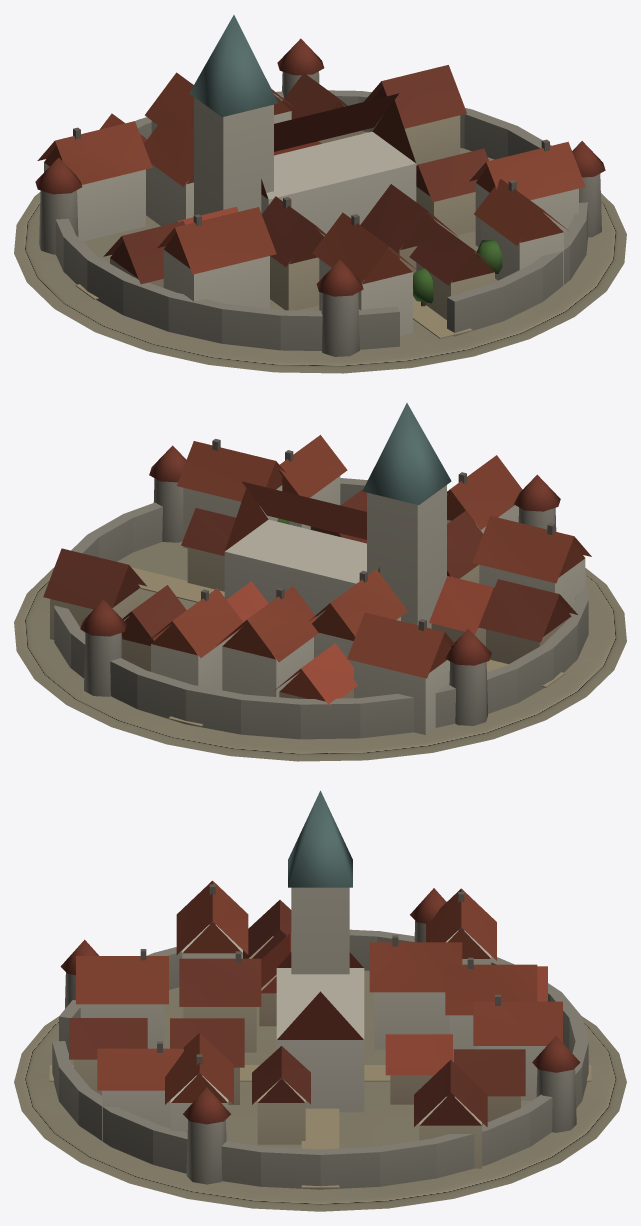
The model's file is settlement_1_4.glb.
3 views of the same model, one above another, from view 1: azimuth 30°, elevation 25°; view 2: azimuth 150°, elevation 25°; view 3: azimuth 270°, elevation 25° (orthographic).
Parts seen in each view (by area): view 1: part_0; view 2: part_0; view 3: part_0.
Boxes of the visible parts, bbox=[...] form: part_0: bbox=[14, 15, 626, 373]; part_0: bbox=[14, 403, 626, 761]; part_0: bbox=[14, 790, 626, 1211].
Bounding box in the file's own units: 32.8 × 14.76 × 32.8.
